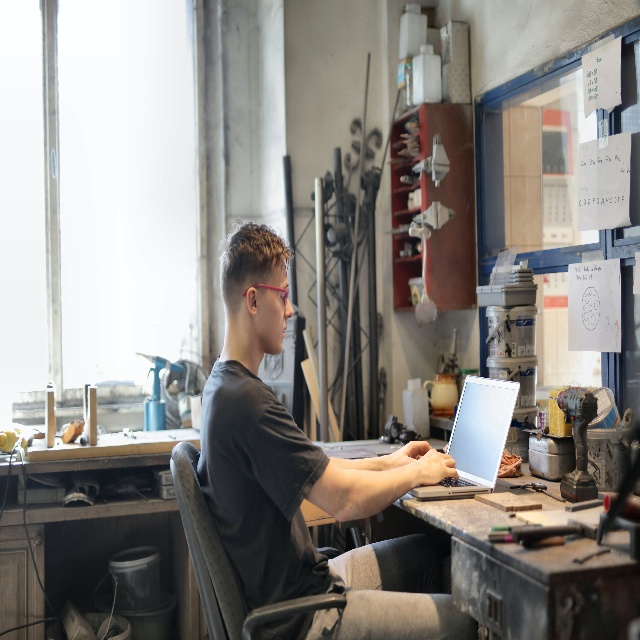Gafas: (241, 283, 290, 307)
Sin_guantes: (416, 449, 459, 486), (391, 441, 432, 469)
